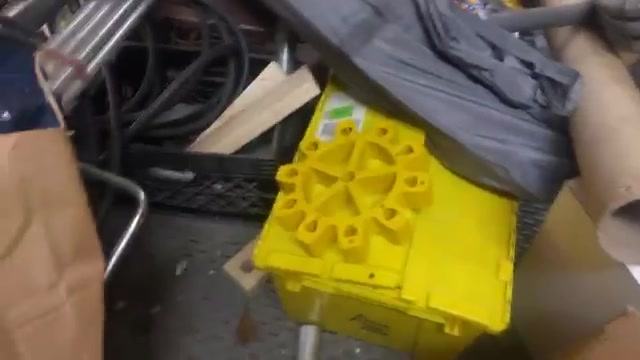gear: (271, 106, 438, 271)
